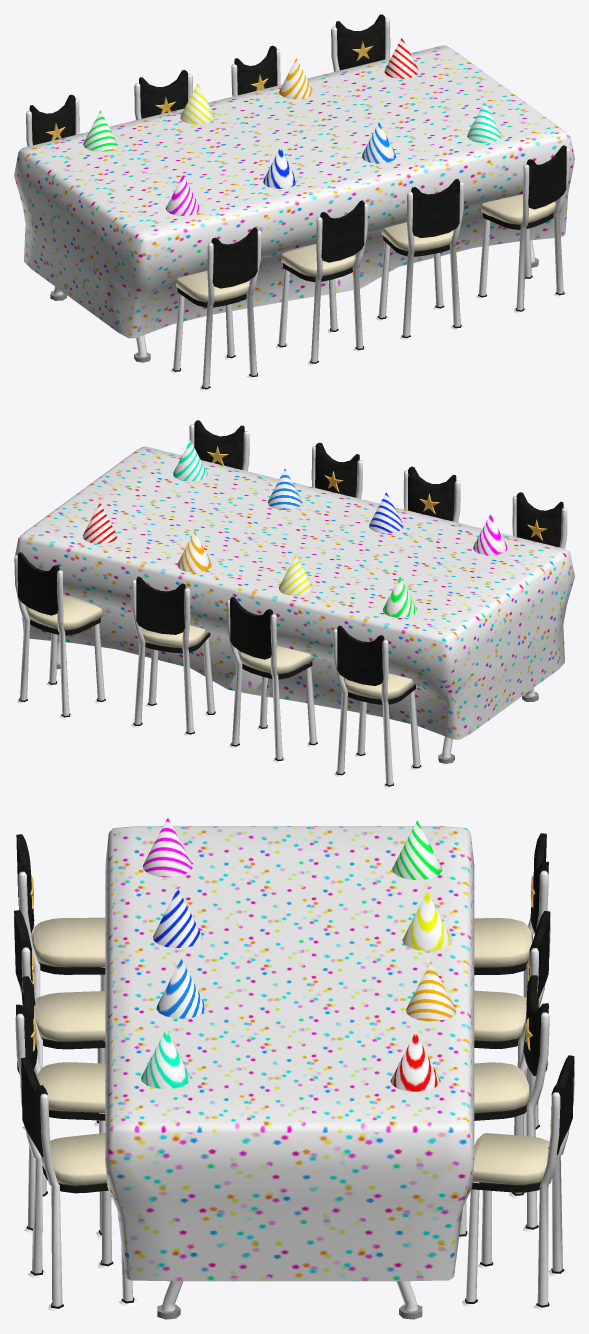
File: Party Table.fbx
The picture shows the model from 3 angles, top to bottom: view 1: azimuth 30°, elevation 25°; view 2: azimuth 150°, elevation 25°; view 3: azimuth 270°, elevation 25°; orthographic projection. The views are drawn at different scales.
Parts seen in each view (by area): view 1: PartyTable; view 2: PartyTable; view 3: PartyTable.
Boxes of the visible parts, left/top/right/bottom form: PartyTable: left=14, top=14, right=574, bottom=391; PartyTable: left=14, top=420, right=574, bottom=788; PartyTable: left=14, top=817, right=574, bottom=1319.
Bounding box in the file's own units: 266 × 100 × 202.
